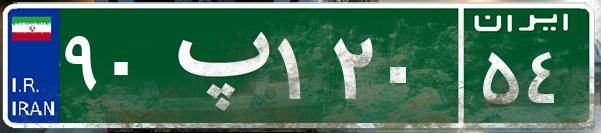0: (385, 28, 445, 110), (110, 28, 158, 105)
1: (273, 28, 330, 110)
2: (330, 28, 385, 110)
4: (525, 38, 570, 115)
5: (475, 38, 525, 113)
9: (57, 26, 110, 107)
پ: (158, 15, 273, 115)
